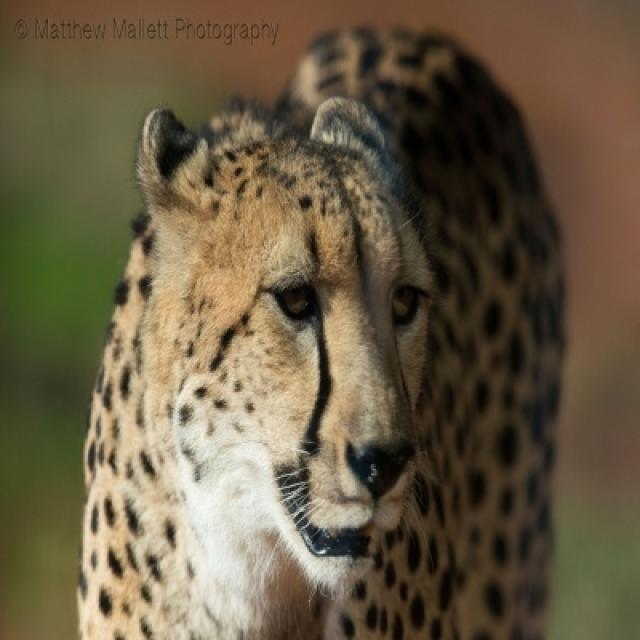Cheetah: (77, 24, 568, 638)
